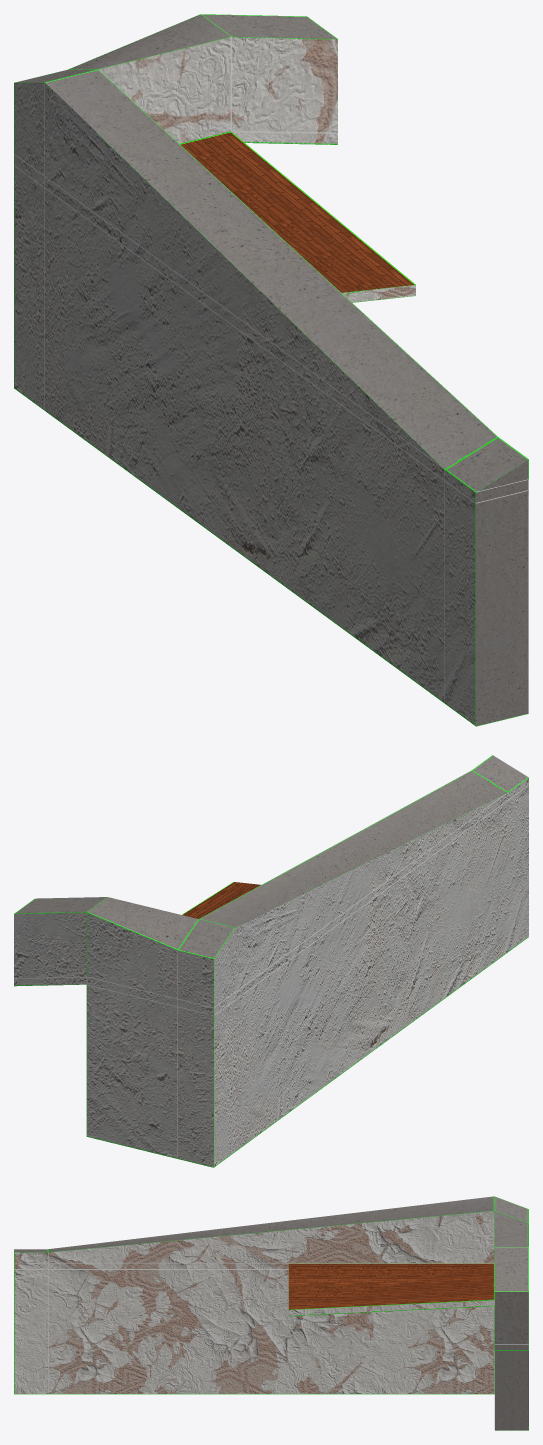
Rendered from House2RuinsLong.fbx.
3 views of the same model, one above another, from view 1: azimuth 30°, elevation 25°; view 2: azimuth 150°, elevation 25°; view 3: azimuth 270°, elevation 25° (orthographic). The views are drawn at different scales.
Parts seen in each view (by area): view 1: House2RuinsLong; view 2: House2RuinsLong; view 3: House2RuinsLong.
Part boxes in pixels (x1=…): House2RuinsLong: x1=14, y1=14, x2=528, y2=726; House2RuinsLong: x1=14, y1=755, x2=528, y2=1167; House2RuinsLong: x1=14, y1=1196, x2=528, y2=1430.
Bounding box in the file's own units: 2.75 × 2.95 × 7.5.
1 material, 1 textured.
